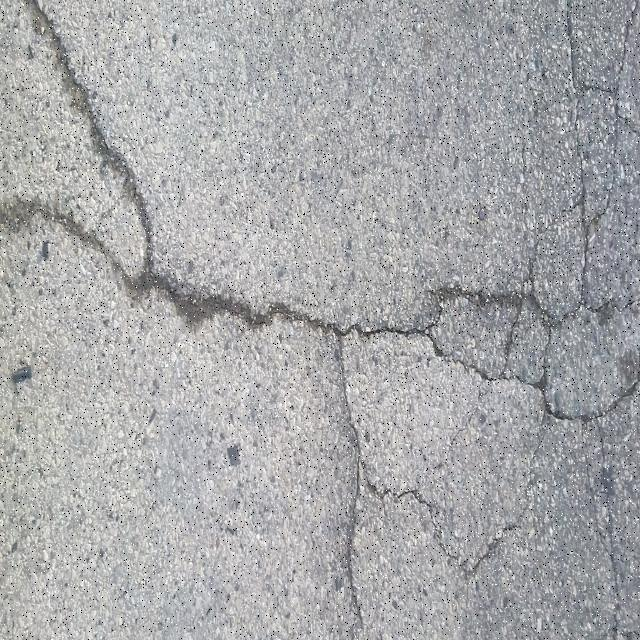Crack: (0, 0, 640, 631), (592, 491, 640, 638)
